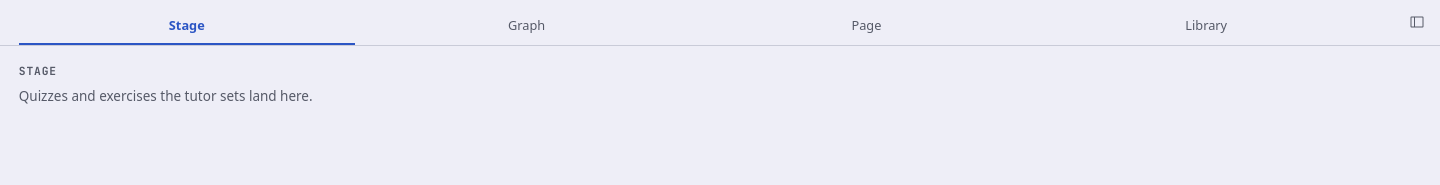
Test: SidePanel collapse — the rail › the collapse button reports aria-expanded and collapses the panel on click
Click the button named "Collapse side panel": coordinates (1416, 22) [1400,6,1432,38]
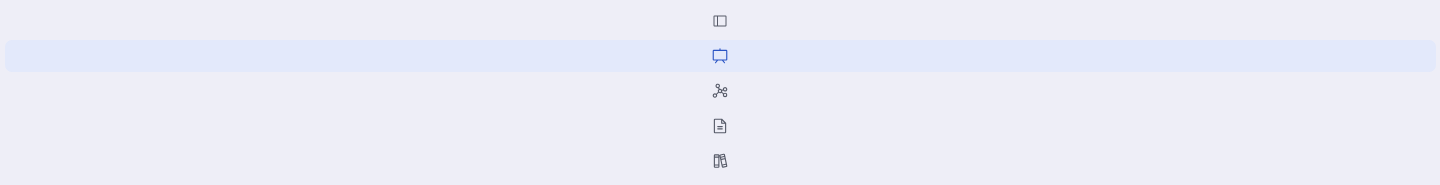
Result: the button named "Expand side panel" is shown at [4,4,1436,36]
